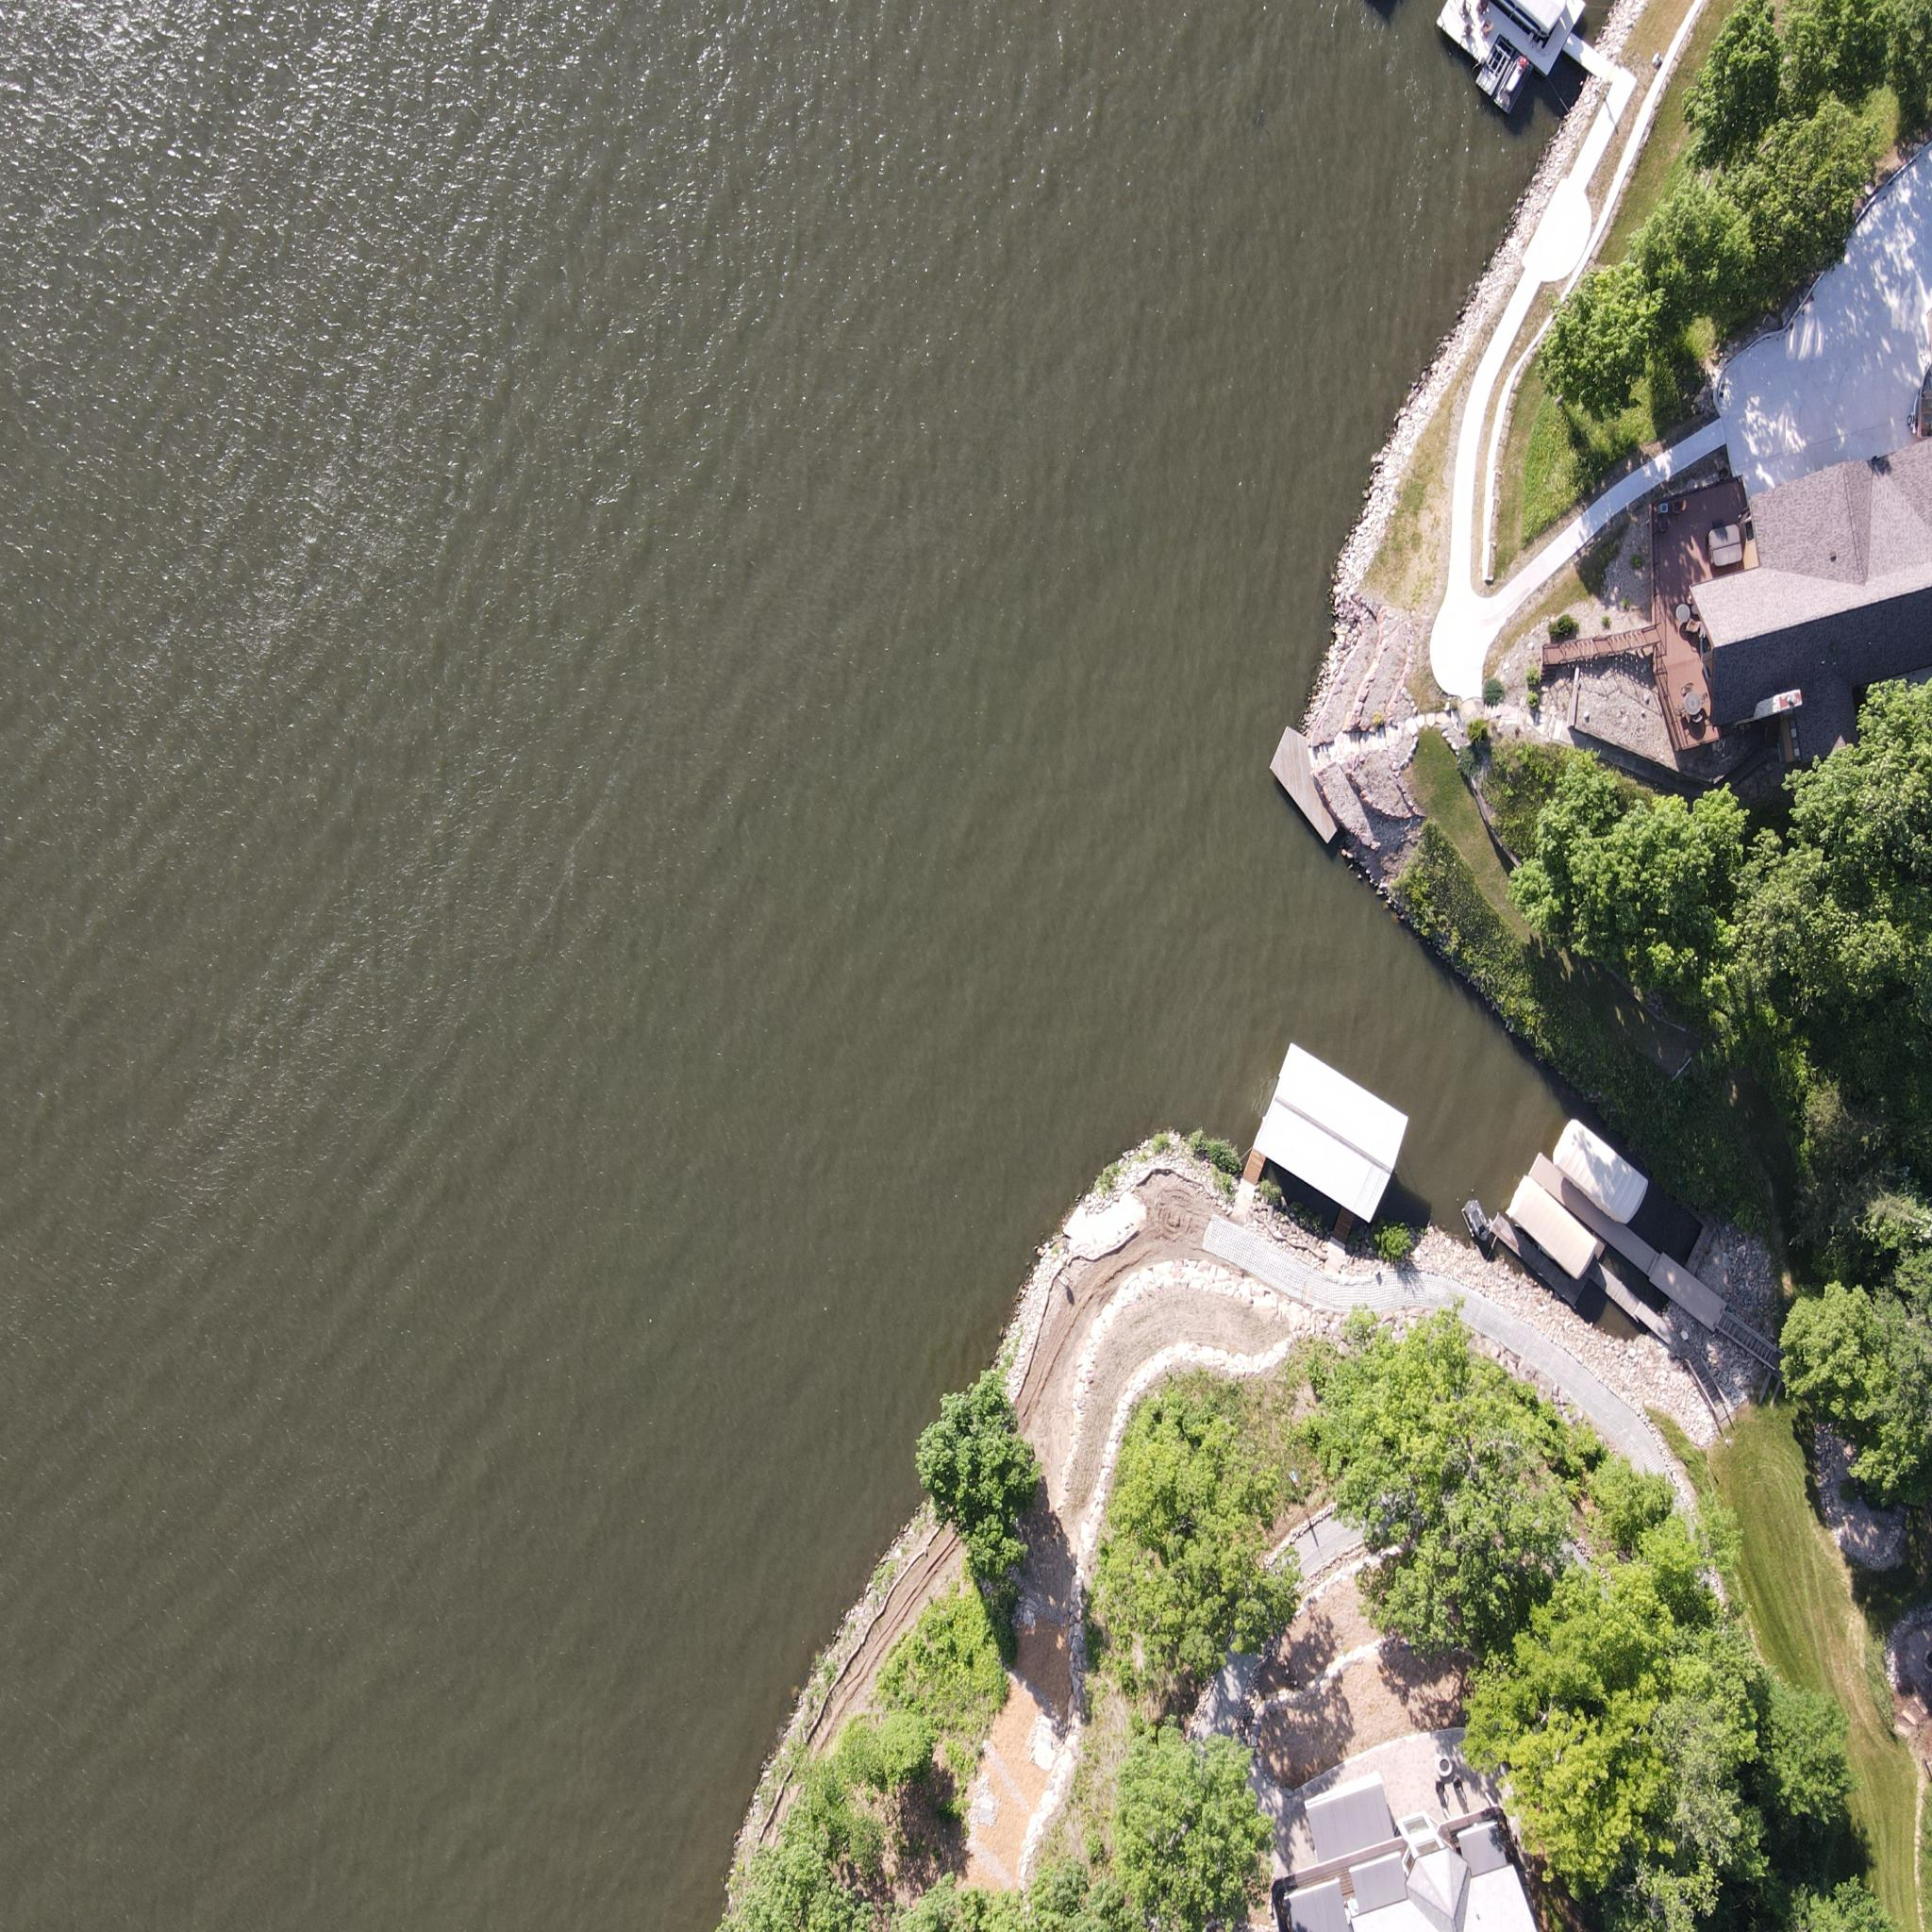dock: (1240, 1037, 1408, 1277), (1523, 1145, 1725, 1338), (1488, 1205, 1681, 1362), (1431, 0, 1599, 115), (1258, 715, 1353, 863)
jetski: (1491, 55, 1534, 120), (1456, 1192, 1491, 1253)
lift: (1553, 1120, 1651, 1224), (1507, 1173, 1598, 1277)
